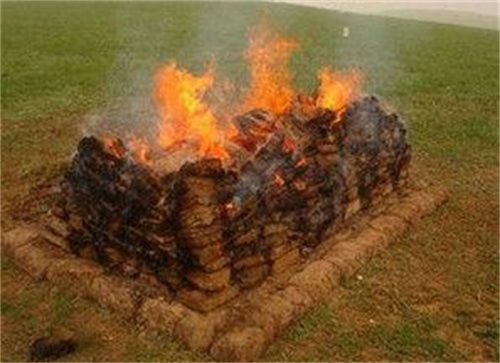fire: (82, 10, 373, 155)
